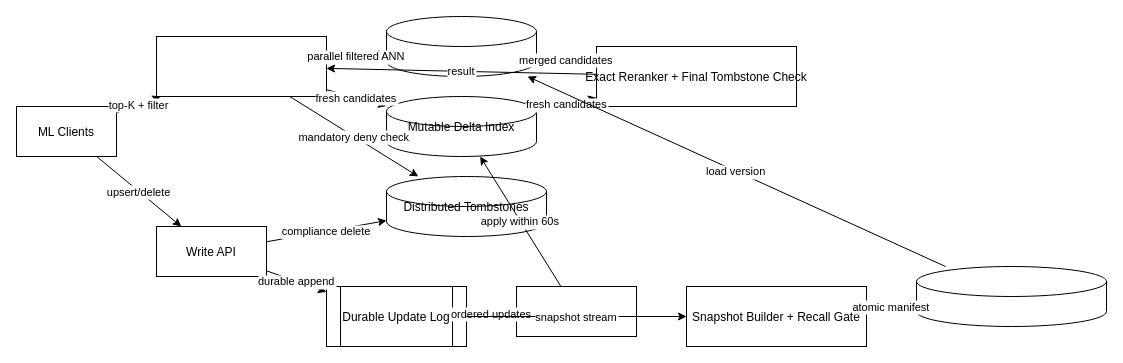
This 1123x363 diagram has some shape labels left out. The shapes that lost their labels are listed below. From the top down, each one's centre as x and y in pixels, then its label:
(241,66): Query Router + Coordinator
(461,46): Immutable ANN Shards
(576,311): Delta Indexer
(1011,296): Versioned Segments + Manifest
